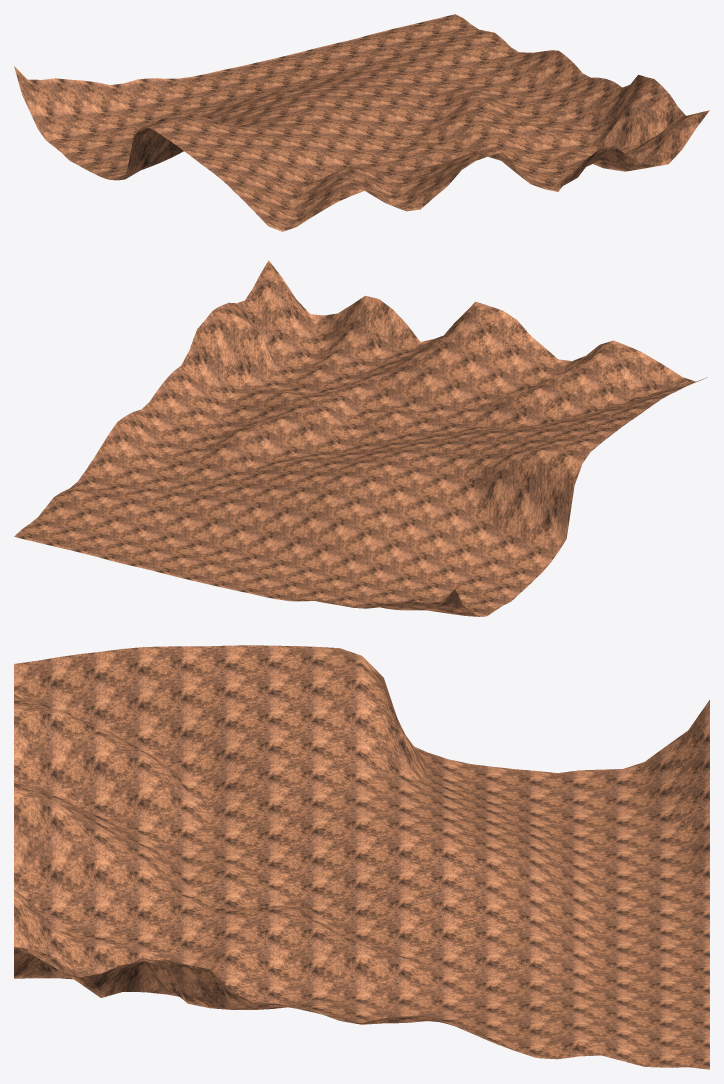
Rendered from terrain_00_21.dae.
3 views of the same model, one above another, from view 1: azimuth 30°, elevation 25°; view 2: azimuth 150°, elevation 25°; view 3: azimuth 270°, elevation 25° (orthographic). The views are drawn at different scales.
Visible parts, largest first — view 1: terrain_00_21-node; view 2: terrain_00_21-node; view 3: terrain_00_21-node.
Boxes of the visible parts, left/top/right/bottom form: terrain_00_21-node: left=14, top=14, right=709, bottom=231; terrain_00_21-node: left=14, top=260, right=707, bottom=616; terrain_00_21-node: left=14, top=645, right=709, bottom=1069.
Size of the model in its own units: 128 by 128 by 27.6.
Materials: 1 (1 with a texture image).
